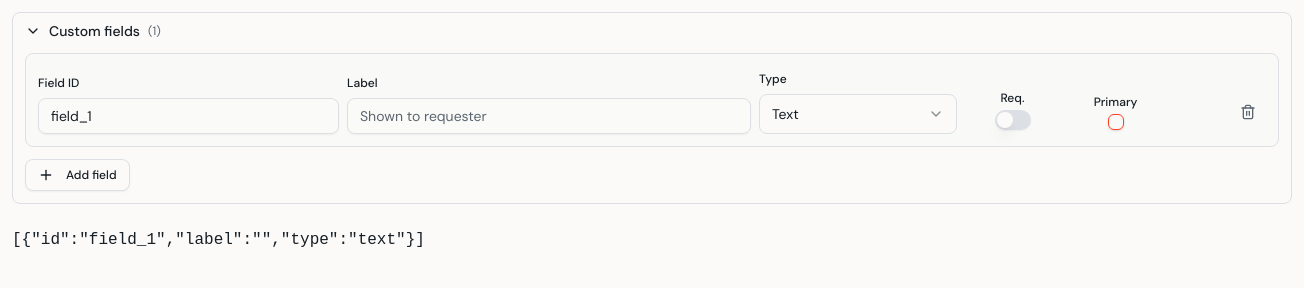
Test: RequiredFieldsEditor › shows slug-format error for non-slug id
Replace the text in the field with test id "rfe-row-0-id" with "Bad-ID": (188, 116) x1=38 y1=98 x2=339 y2=134
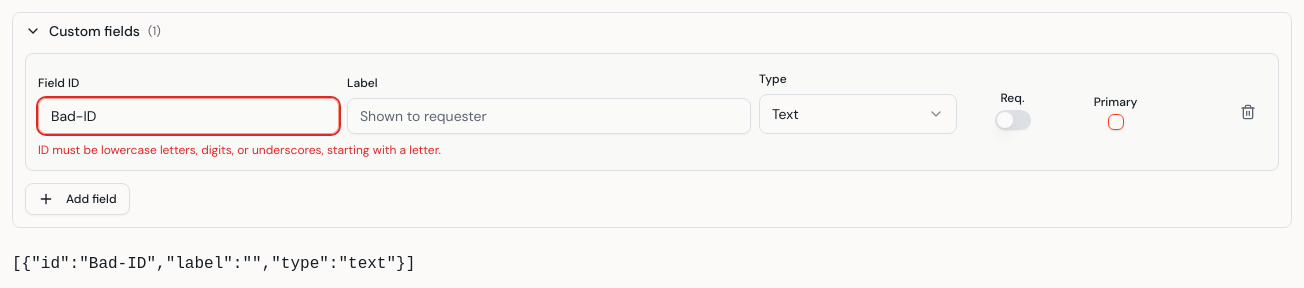
Check: the text with test id "rfe-row-0-id-error" shows "lowercase", box x1=38 y1=142 x2=441 y2=158
